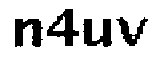4: (47, 6, 80, 49)
n: (11, 15, 44, 49)
u: (81, 15, 114, 51)
v: (116, 14, 147, 48)
